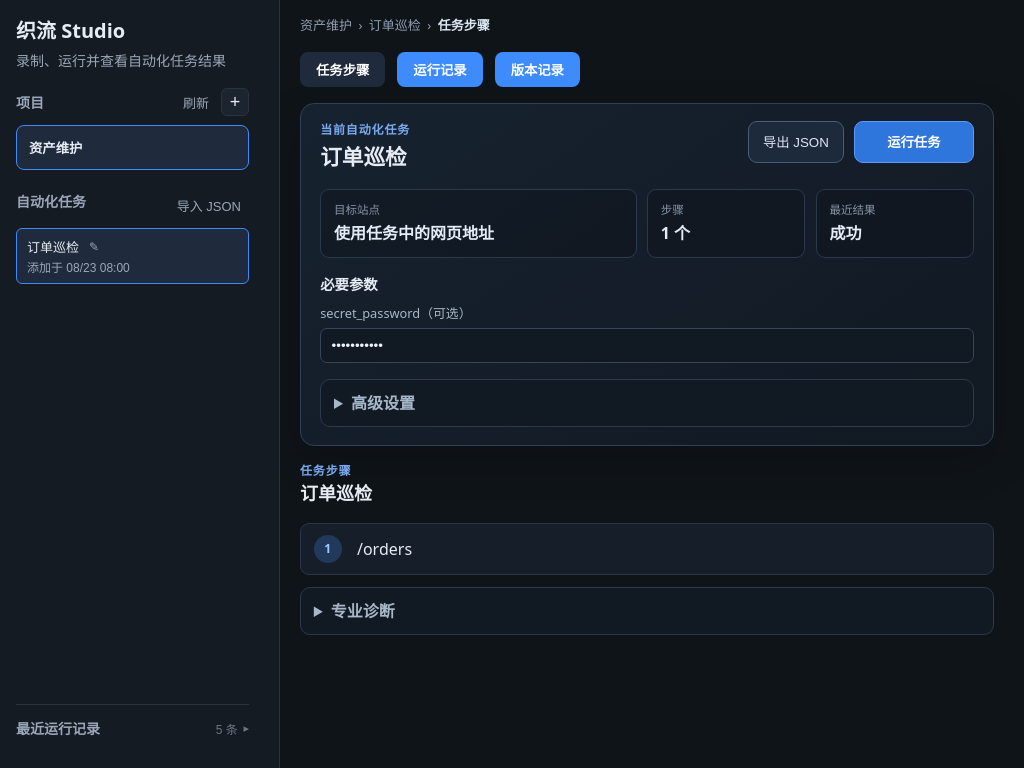
Studio 本地资产维护 › 删除当前第 5 条后重新拉取并选择补入的第 6 条
The width and height of the screenshot is (1024, 768).
Click the button "最近运行记录 5 条 ▸": coordinates (132, 728) [16, 713, 249, 744]
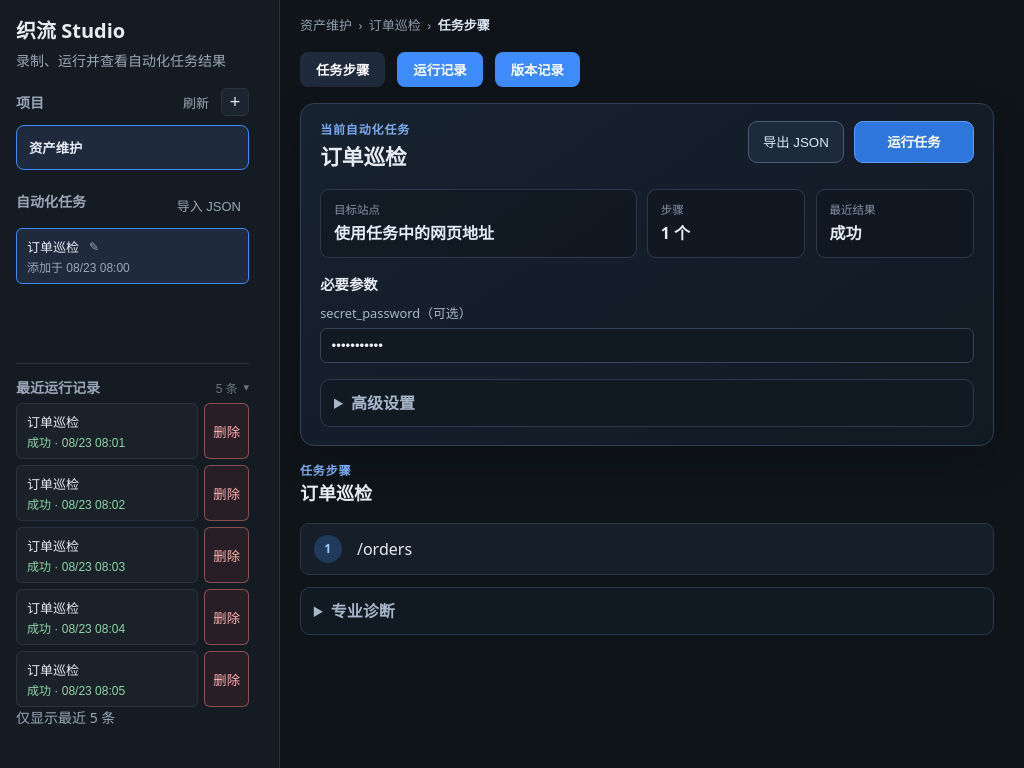
Click the button with class "execution-history-item" showing "订单巡检 成功 · 08/23 08:05": coordinates (107, 679) [16, 651, 198, 707]
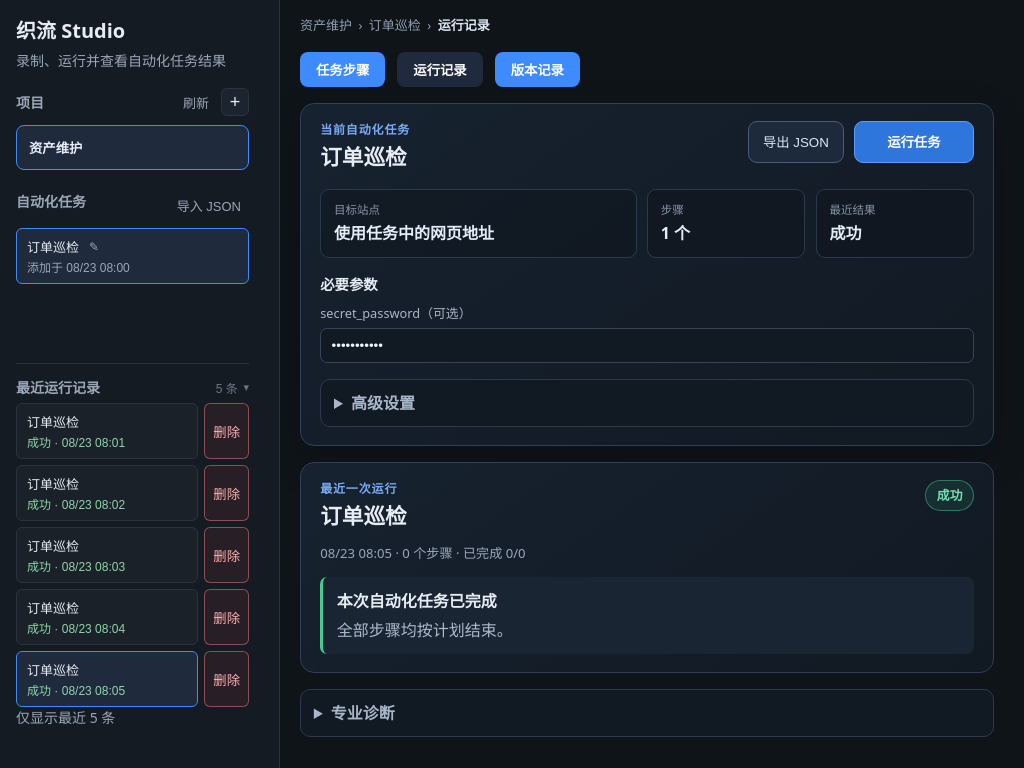
Click the 5th button with class "execution-history-delete": coordinates (227, 679) [204, 651, 249, 707]
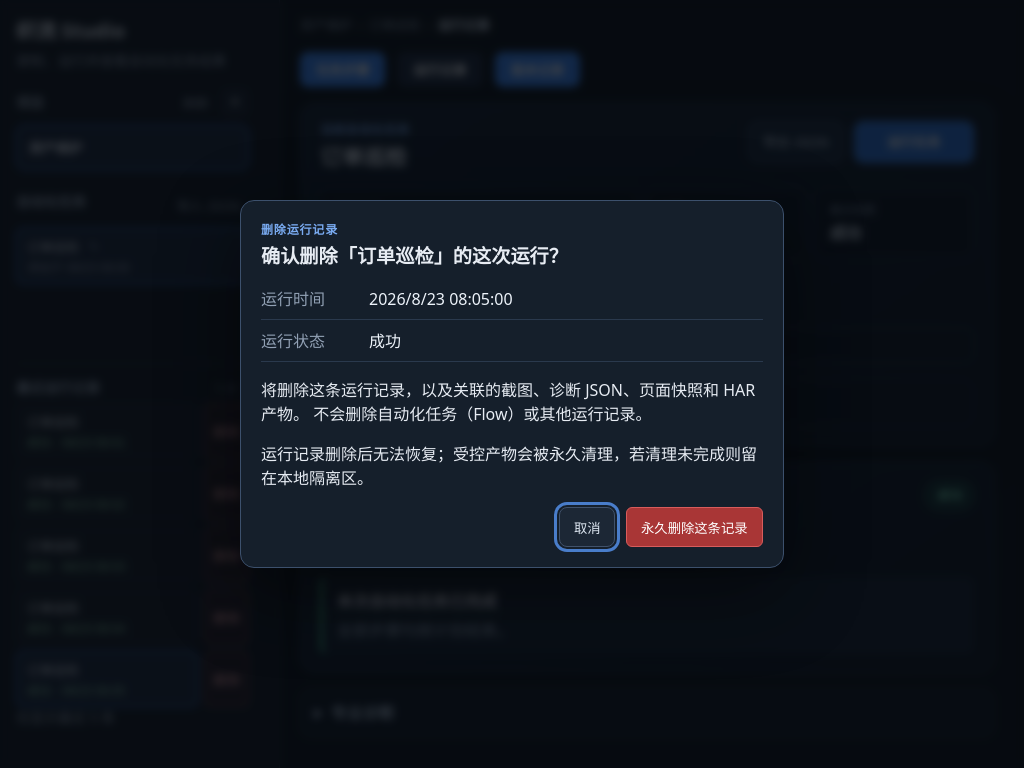
Result: the button "取消" is shown at [559, 507, 615, 547]
Click the button "永久删除这条记录": coordinates (694, 527) [626, 507, 763, 547]
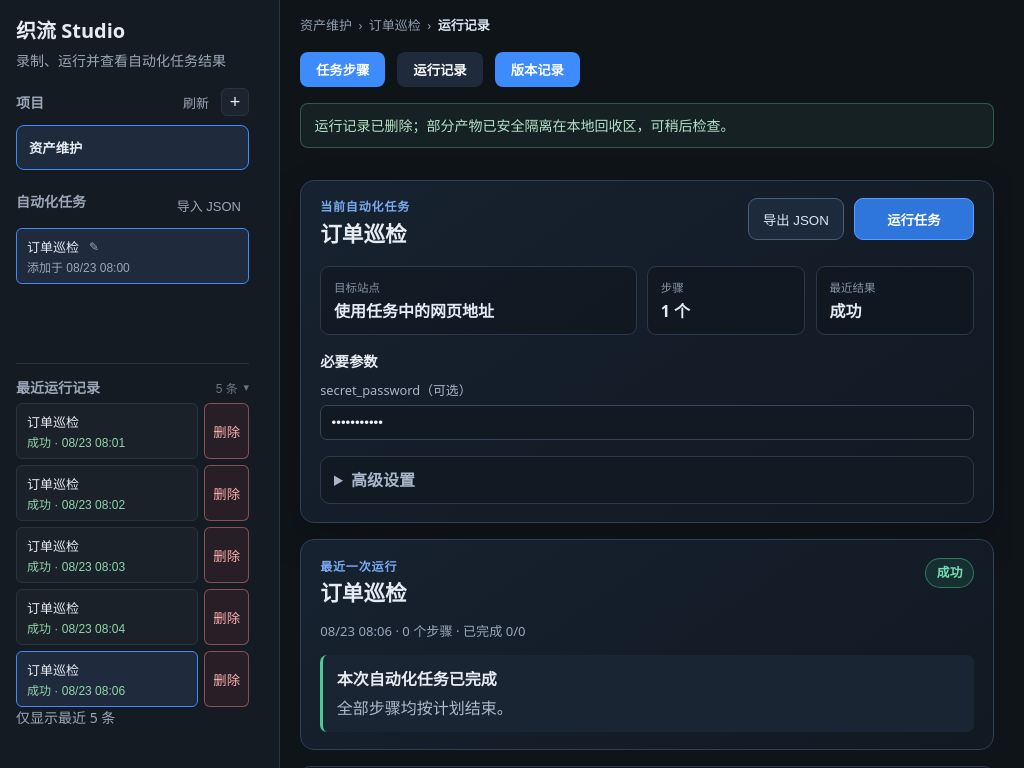
Result: the text "已安全隔离在本地回收区" is shown at [315, 116, 735, 135]
